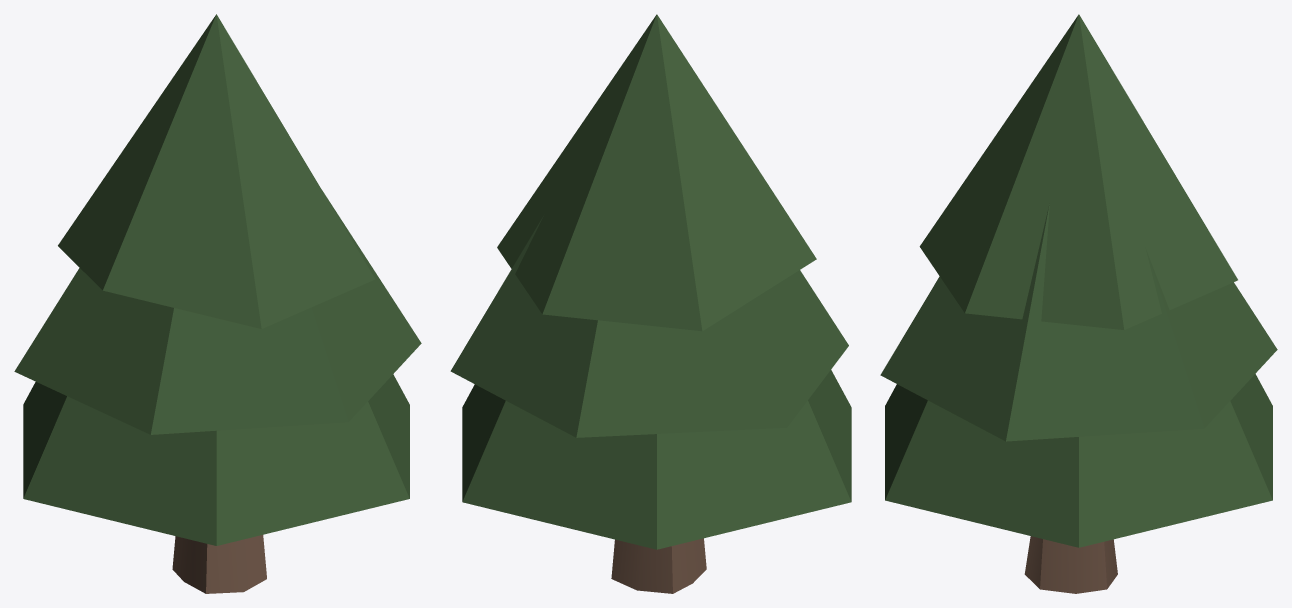
File: Tree_1.fbx
3 views of the same model, side by side, from view 1: azimuth 30°, elevation 25°; view 2: azimuth 150°, elevation 25°; view 3: azimuth 270°, elevation 25° (orthographic).
Parts seen in each view (by area): view 1: Tree_1; view 2: Tree_1; view 3: Tree_1.
Boxes of the visible parts, box(x1,y1,x2,y2) form: Tree_1: box(14, 14, 421, 593); Tree_1: box(450, 14, 851, 593); Tree_1: box(880, 14, 1277, 593).
Bounding box in the file's own units: 36.46 × 50.32 × 32.34.
